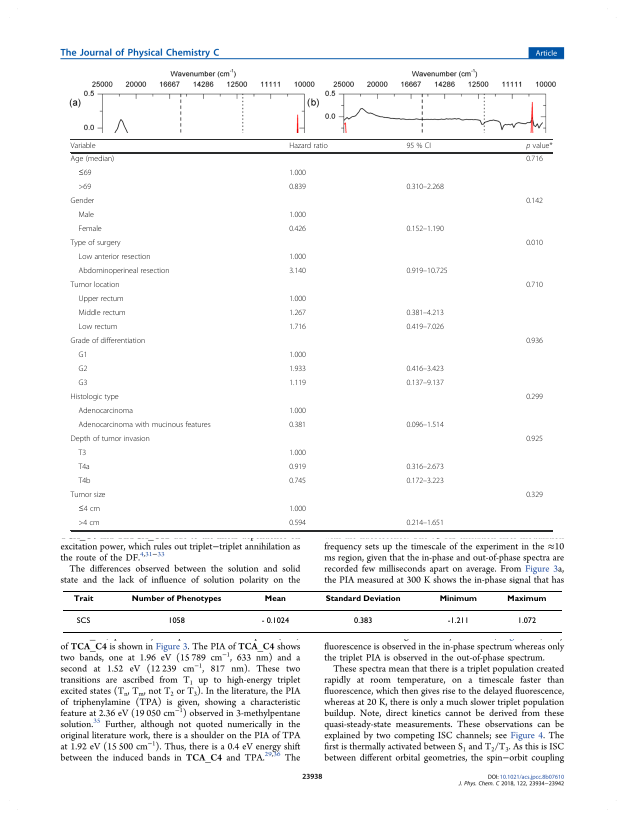borderless: (69, 138, 552, 530), (62, 589, 562, 632)
cell: (77, 421, 211, 431), (77, 267, 170, 277), (130, 594, 222, 603), (69, 435, 151, 445), (69, 337, 146, 347), (77, 253, 151, 263), (324, 594, 401, 603), (77, 407, 134, 417), (70, 239, 121, 249), (69, 393, 120, 403), (70, 281, 120, 291), (77, 309, 127, 319), (77, 295, 124, 305), (70, 155, 115, 165), (405, 267, 448, 277), (77, 323, 118, 333), (405, 183, 445, 193), (405, 225, 445, 235), (405, 309, 445, 319), (405, 323, 445, 333), (405, 365, 445, 375), (405, 379, 445, 389), (405, 421, 445, 431), (405, 463, 445, 473), (405, 477, 445, 487), (405, 519, 445, 529), (69, 491, 106, 501), (506, 594, 547, 603), (288, 142, 329, 151), (438, 594, 477, 603), (77, 225, 103, 235), (525, 142, 553, 151), (70, 197, 95, 207), (405, 142, 432, 151), (260, 616, 290, 624), (77, 505, 101, 515), (70, 142, 96, 151), (77, 519, 100, 529), (263, 594, 286, 603), (72, 594, 94, 603), (525, 155, 544, 165), (288, 169, 307, 179), (288, 183, 307, 193), (525, 197, 544, 207), (288, 211, 307, 221), (288, 225, 307, 235), (525, 239, 544, 249), (288, 253, 307, 263), (288, 267, 307, 277), (525, 281, 544, 291), (288, 295, 307, 305), (288, 309, 307, 319), (288, 323, 307, 333), (525, 337, 544, 347), (288, 351, 307, 361), (288, 365, 307, 375), (288, 379, 307, 389), (525, 393, 544, 403), (288, 407, 307, 417), (288, 421, 307, 431), (525, 435, 544, 445), (288, 449, 307, 459), (288, 463, 307, 473), (288, 477, 307, 487), (525, 491, 544, 501), (288, 505, 307, 515), (288, 519, 307, 529), (446, 616, 469, 624), (77, 211, 95, 221), (516, 616, 537, 624), (353, 616, 373, 624), (77, 169, 92, 179), (77, 183, 92, 193), (167, 616, 185, 624), (77, 463, 91, 473), (77, 477, 91, 487), (75, 616, 91, 624), (77, 351, 88, 361), (77, 365, 88, 375), (77, 379, 88, 389), (77, 449, 87, 459)
